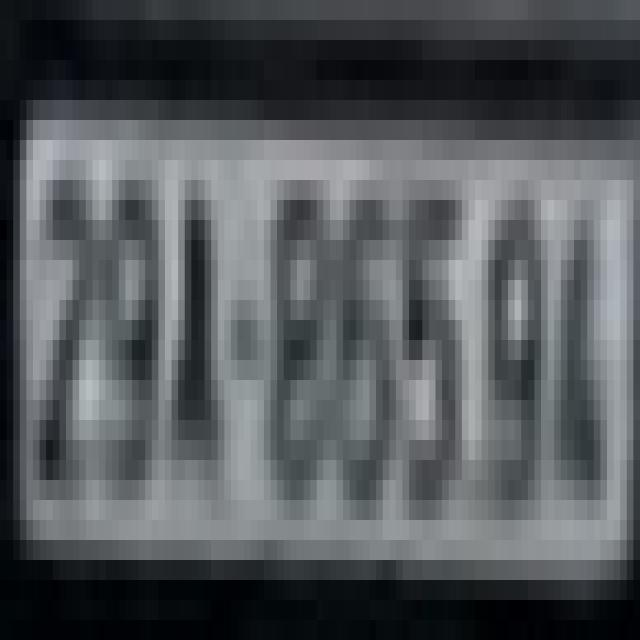2: (30, 170, 96, 490)
4: (554, 200, 607, 520)
5: (402, 180, 462, 520)
6: (336, 180, 396, 500)
9: (482, 180, 541, 520), (99, 160, 158, 500), (270, 180, 330, 500)
A: (165, 180, 224, 500)
